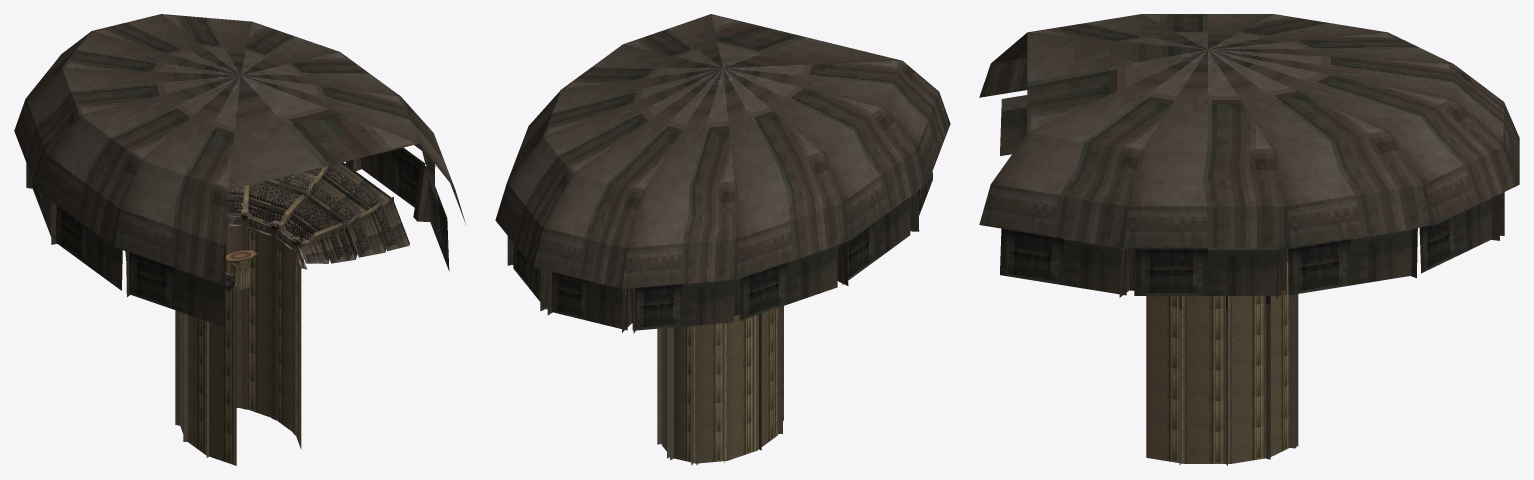
Rendered from Z02_ground00_grp.dae.
The picture shows the model from 3 angles, left to right: view 1: azimuth 30°, elevation 25°; view 2: azimuth 150°, elevation 25°; view 3: azimuth 270°, elevation 25°; orthographic projection. The views are drawn at different scales.
Parts seen in each view (by area): view 1: vsn_mesh_6_polySurface1142, vsn_mesh_8_polySurface1274, vsn_mesh_3_flag2_01, vsn_mesh_7_polySurface1241, vsn_mesh_4_pCube322, vsn_mesh_5_polySurface1302, vsn_mesh_0_pCube244; view 2: vsn_mesh_6_polySurface1142, vsn_mesh_8_polySurface1274, vsn_mesh_3_flag2_01; view 3: vsn_mesh_6_polySurface1142, vsn_mesh_8_polySurface1274, vsn_mesh_3_flag2_01.
Boxes of the visible parts, box(x1,y1,x2,y2) form: vsn_mesh_6_polySurface1142: box(14, 14, 465, 326); vsn_mesh_8_polySurface1274: box(180, 211, 301, 465); vsn_mesh_3_flag2_01: box(175, 180, 357, 457); vsn_mesh_7_polySurface1241: box(224, 162, 409, 290); vsn_mesh_4_pCube322: box(224, 165, 396, 286); vsn_mesh_5_polySurface1302: box(225, 191, 333, 282); vsn_mesh_0_pCube244: box(226, 250, 256, 290); vsn_mesh_6_polySurface1142: box(495, 14, 950, 333); vsn_mesh_8_polySurface1274: box(661, 306, 783, 463); vsn_mesh_3_flag2_01: box(657, 306, 782, 465); vsn_mesh_6_polySurface1142: box(979, 14, 1519, 298); vsn_mesh_8_polySurface1274: box(1146, 261, 1289, 463); vsn_mesh_3_flag2_01: box(1179, 248, 1298, 465).
Size of the model in its own units: 1968 by 2065 by 2586.
Materials: 9 (9 with a texture image).
